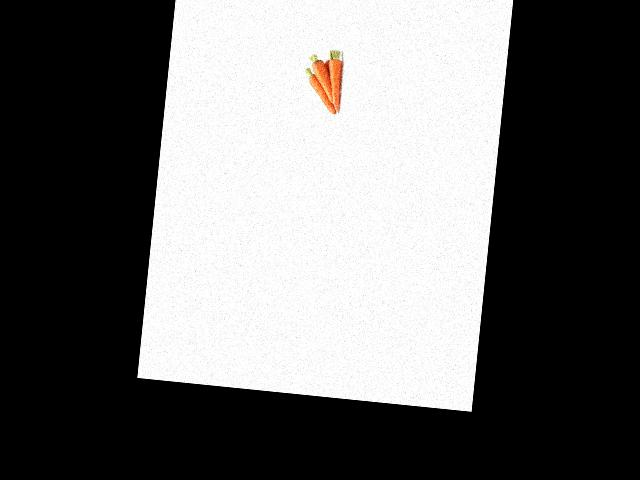carrot: (324, 53, 350, 115)
